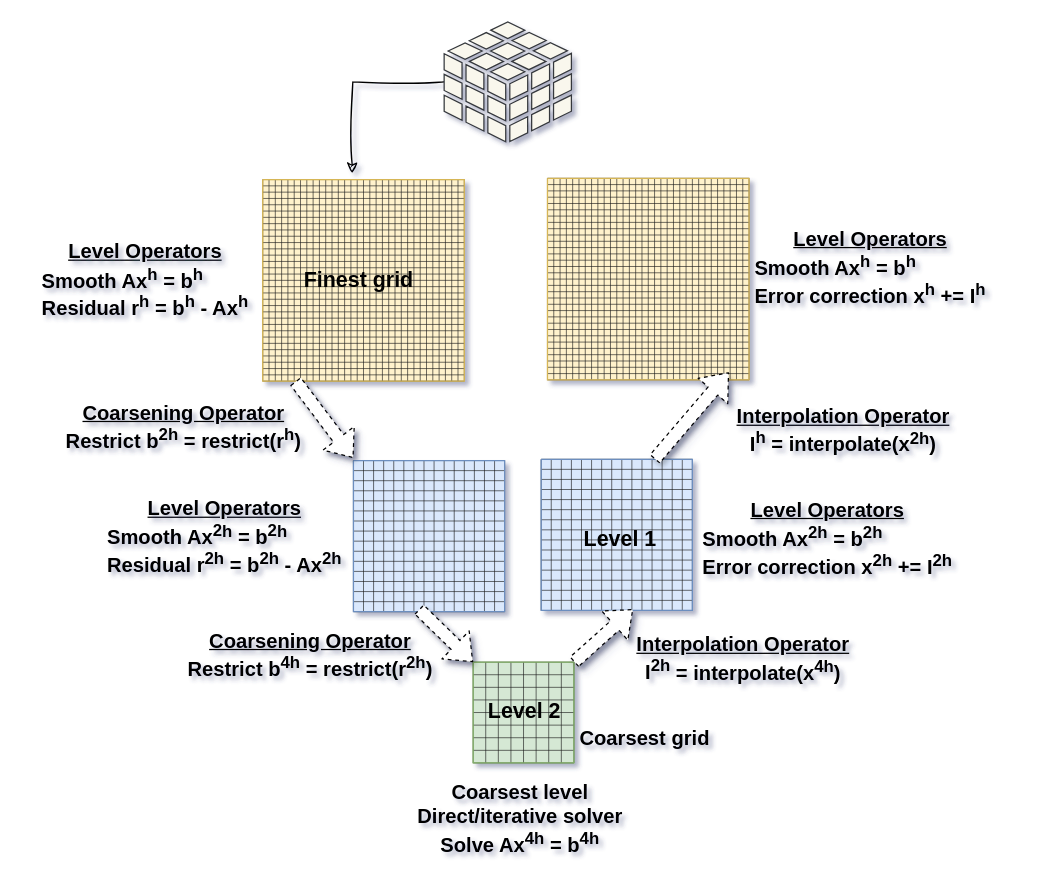
The diagram is 1056 pixels wide and 886 high, and some of its shapes have lost their labels. Here are the shapes that lost their labels. From the top down, the centre of each, then its label:
point (507, 81): Problem Grid
point (647, 278): Level 0
